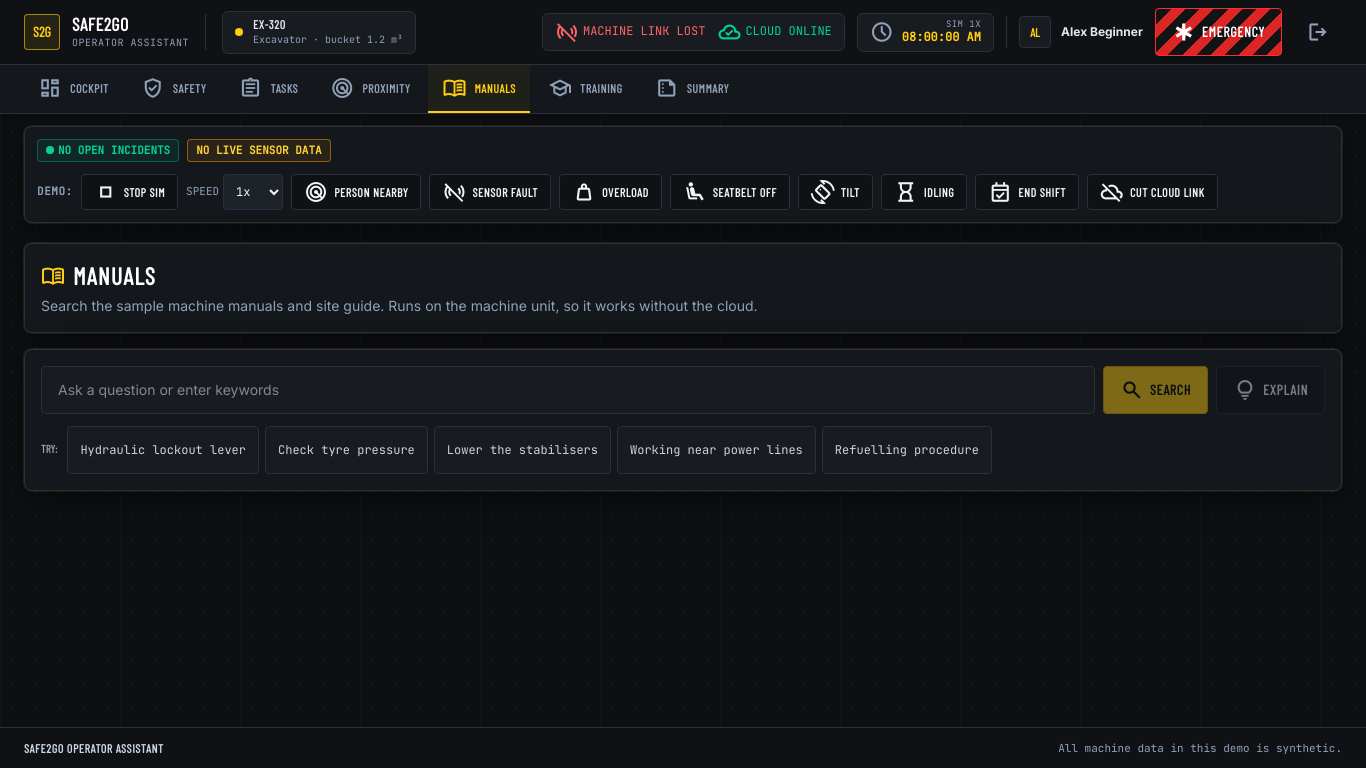
it: Phase 9 operator screens › falls back to the manual sections with a notice
Type "How do I start?" into the field named "Search the manuals".
click(568, 390); type("How do I start?")  # box [41, 366, 1095, 414]
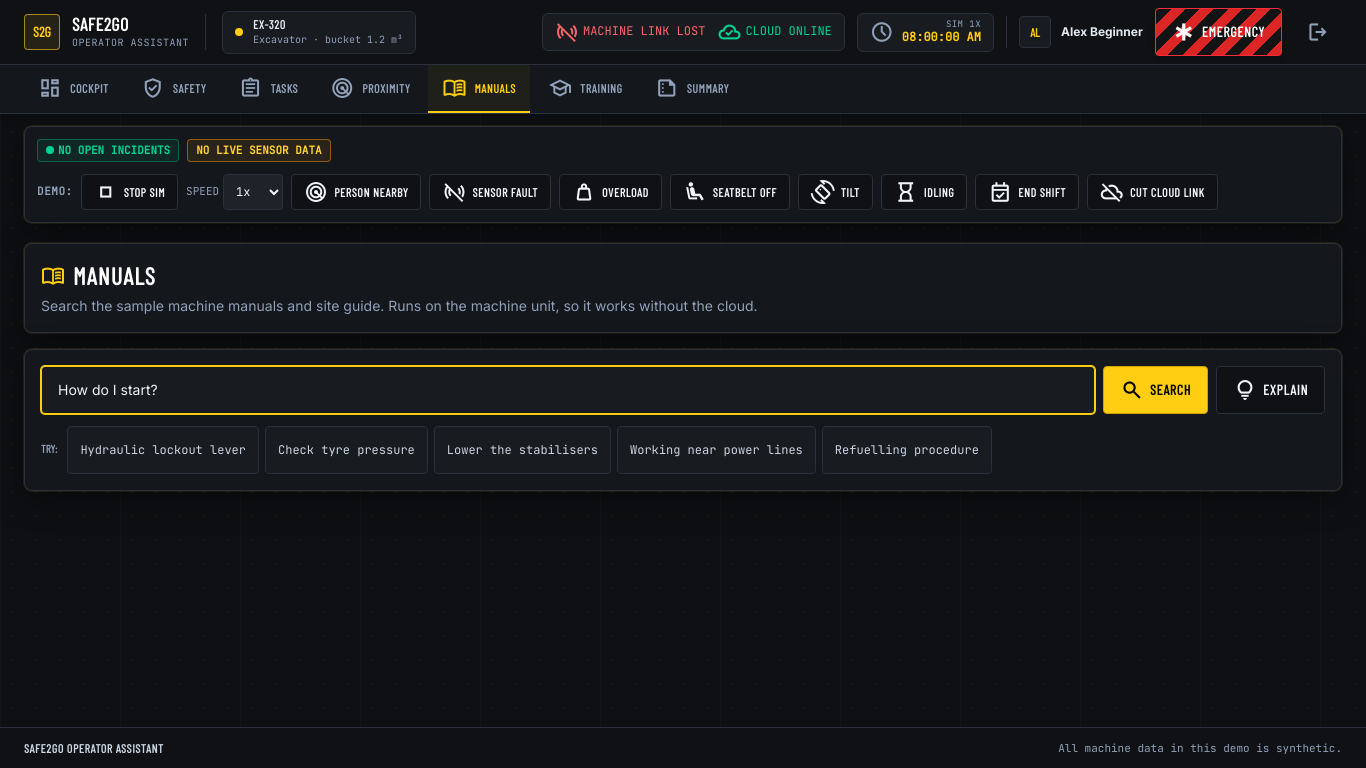
Click the button "Explain".
click(1270, 390)  # box [1216, 366, 1325, 414]
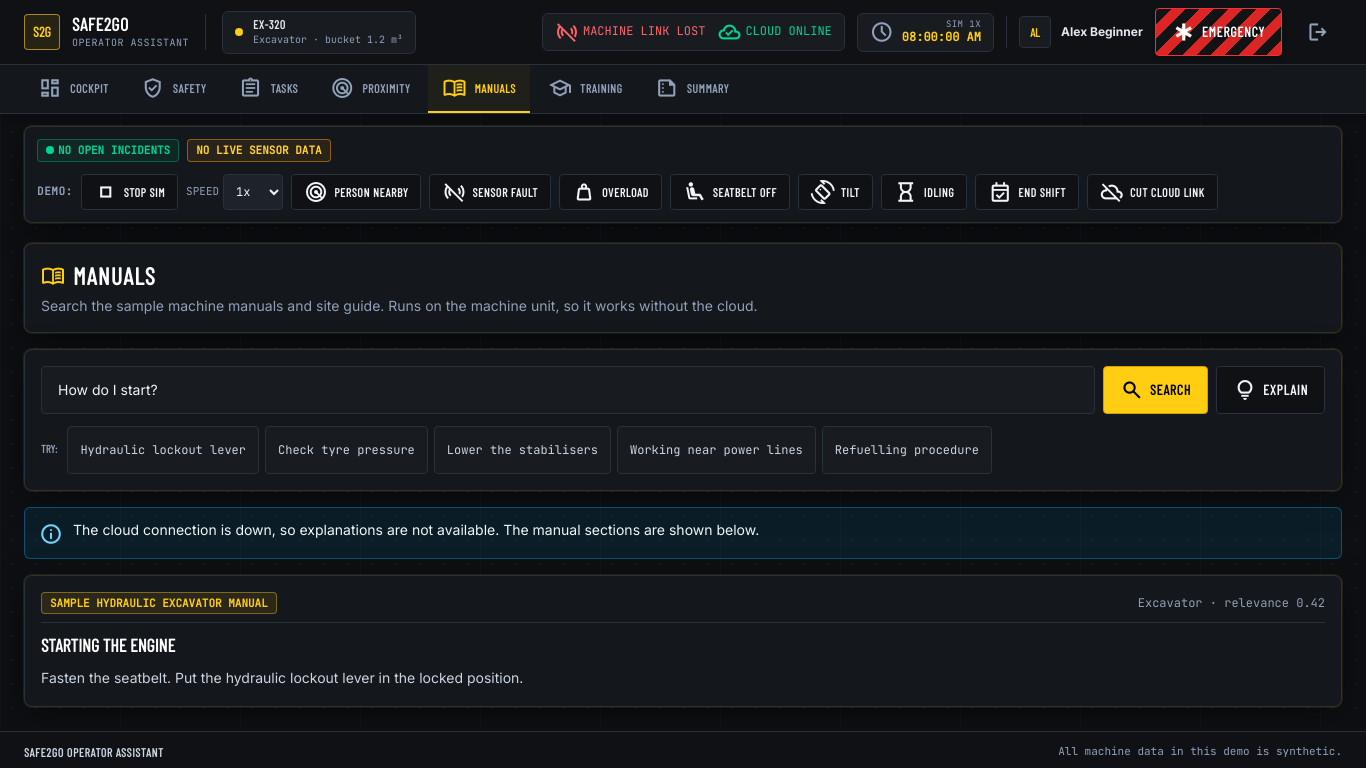
expect the text "explanations are not available" is shown: met, box [73, 520, 759, 538]
expect the heading "Starting the engine" is shown: met, box [41, 634, 175, 656]
